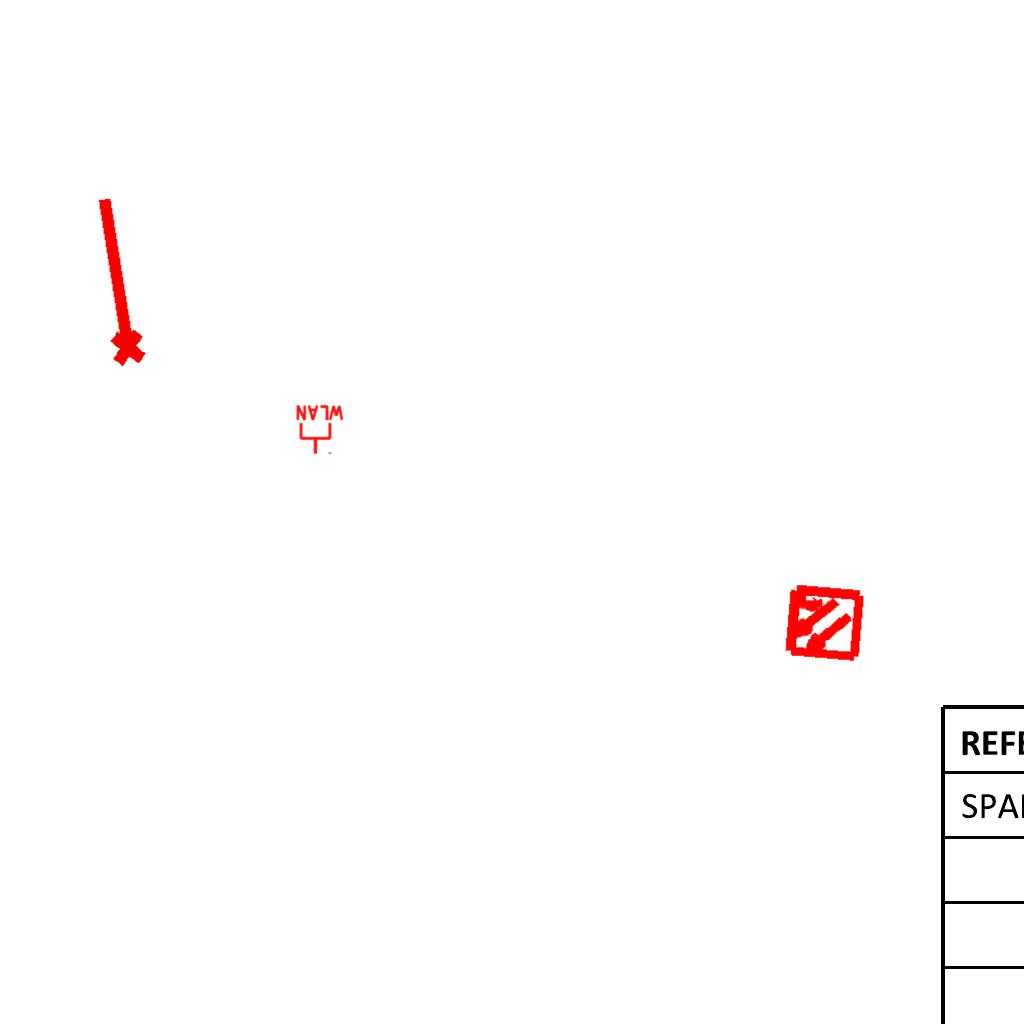ASR_Ansaugoeffnung: (78, 190, 152, 372)
OT_Multisensormelder_(Kombination_RMO_WMD): (761, 561, 884, 684)
WLAN: (294, 404, 346, 456)
